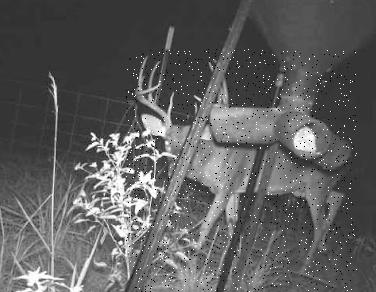Deer: (126, 49, 357, 292)
